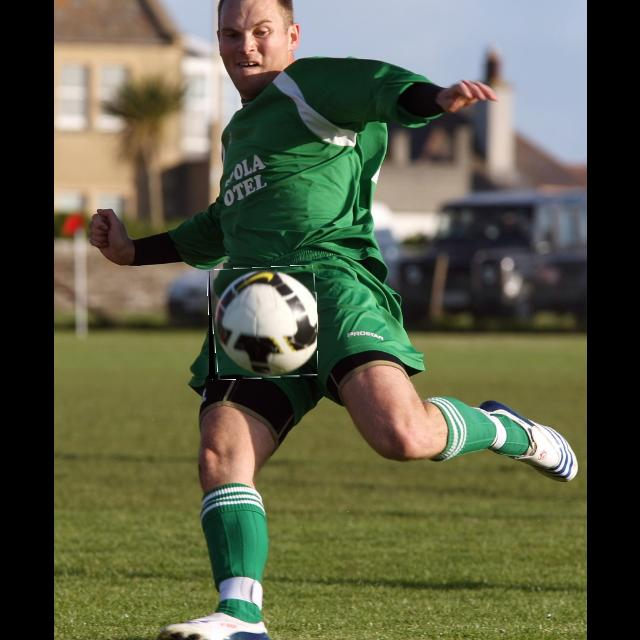Football: (209, 267, 317, 379)
